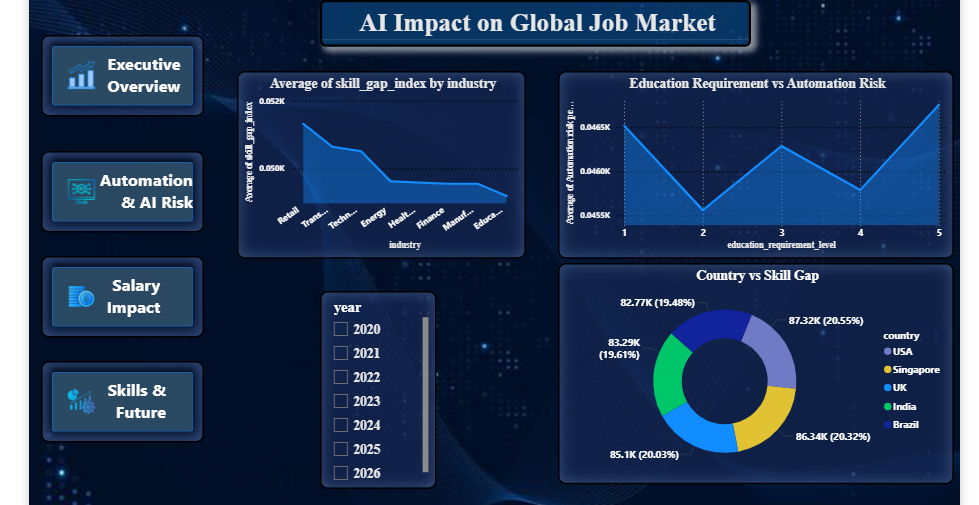

Layout of this report page (visuals, bound fields, positions):
{"tool":"powerbi","page":{"name":"Skills  & Future Demant","canvas":[1280,720],"ordinal":3},"visuals":[{"type":"shape","box":[16,64,224,112],"z":0},{"type":"shape","box":[16,512,224,112],"z":1000},{"type":"shape","box":[16,368,224,112],"z":2000},{"type":"shape","box":[16,224,224,112],"z":3000},{"type":"textbox","box":[400,16,592,64],"z":4000},{"type":"areaChart","fields":{"Category":["ai_job_replacement_2020_2026.industry"],"Y":["Avg(ai_job_replacement_2020_2026.skill_gap_index)"]},"box":[285.1,113.8,397.4,257.8],"z":5000},{"type":"areaChart","title":"Education Requirement vs Automation Risk","fields":{"Category":["ai_job_replacement_2020_2026.education_requirement_level"],"Y":["Avg(ai_job_replacement_2020_2026.Automation risk percent)"]},"box":[727.2,113.8,544.3,257.8],"z":6000},{"type":"donutChart","title":"Country vs Skill Gap","fields":{"Category":["ai_job_replacement_2020_2026.country"],"Y":["Sum(ai_job_replacement_2020_2026.skill_gap_index)"]},"box":[727.2,377.3,544.3,303.8],"z":8000},{"type":"image","box":[48,96,48,48],"z":9000},{"type":"image","box":[48,256,48,48],"z":10000},{"type":"image","box":[48,400,48,48],"z":11000},{"type":"image","box":[48,544,48,48],"z":12000},{"type":"slicer","fields":{"Values":["ai_job_replacement_2020_2026.year"]},"box":[400,416,160,272],"z":12001}]}

Visuals, with their boxes on the page's 1280x720 design canvas (x1, y1, x2, y2). These are canvas units, not pixel positions in the 979x505 screenshot, which may show the page scaled, cropped or inside an application window:
shape: {"x1": 16, "y1": 64, "x2": 240, "y2": 176}
shape: {"x1": 16, "y1": 512, "x2": 240, "y2": 624}
shape: {"x1": 16, "y1": 368, "x2": 240, "y2": 480}
shape: {"x1": 16, "y1": 224, "x2": 240, "y2": 336}
textbox: {"x1": 400, "y1": 16, "x2": 992, "y2": 80}
areaChart - ai_job_replacement_2020_2026.industry x Avg(ai_job_replacement_2020_2026.skill_gap_index): {"x1": 285, "y1": 114, "x2": 682, "y2": 372}
"Education Requirement vs Automation Risk" areaChart: {"x1": 727, "y1": 114, "x2": 1272, "y2": 372}
"Country vs Skill Gap" donutChart: {"x1": 727, "y1": 377, "x2": 1272, "y2": 681}
image: {"x1": 48, "y1": 96, "x2": 96, "y2": 144}
image: {"x1": 48, "y1": 256, "x2": 96, "y2": 304}
image: {"x1": 48, "y1": 400, "x2": 96, "y2": 448}
image: {"x1": 48, "y1": 544, "x2": 96, "y2": 592}
slicer - ai_job_replacement_2020_2026.year: {"x1": 400, "y1": 416, "x2": 560, "y2": 688}
